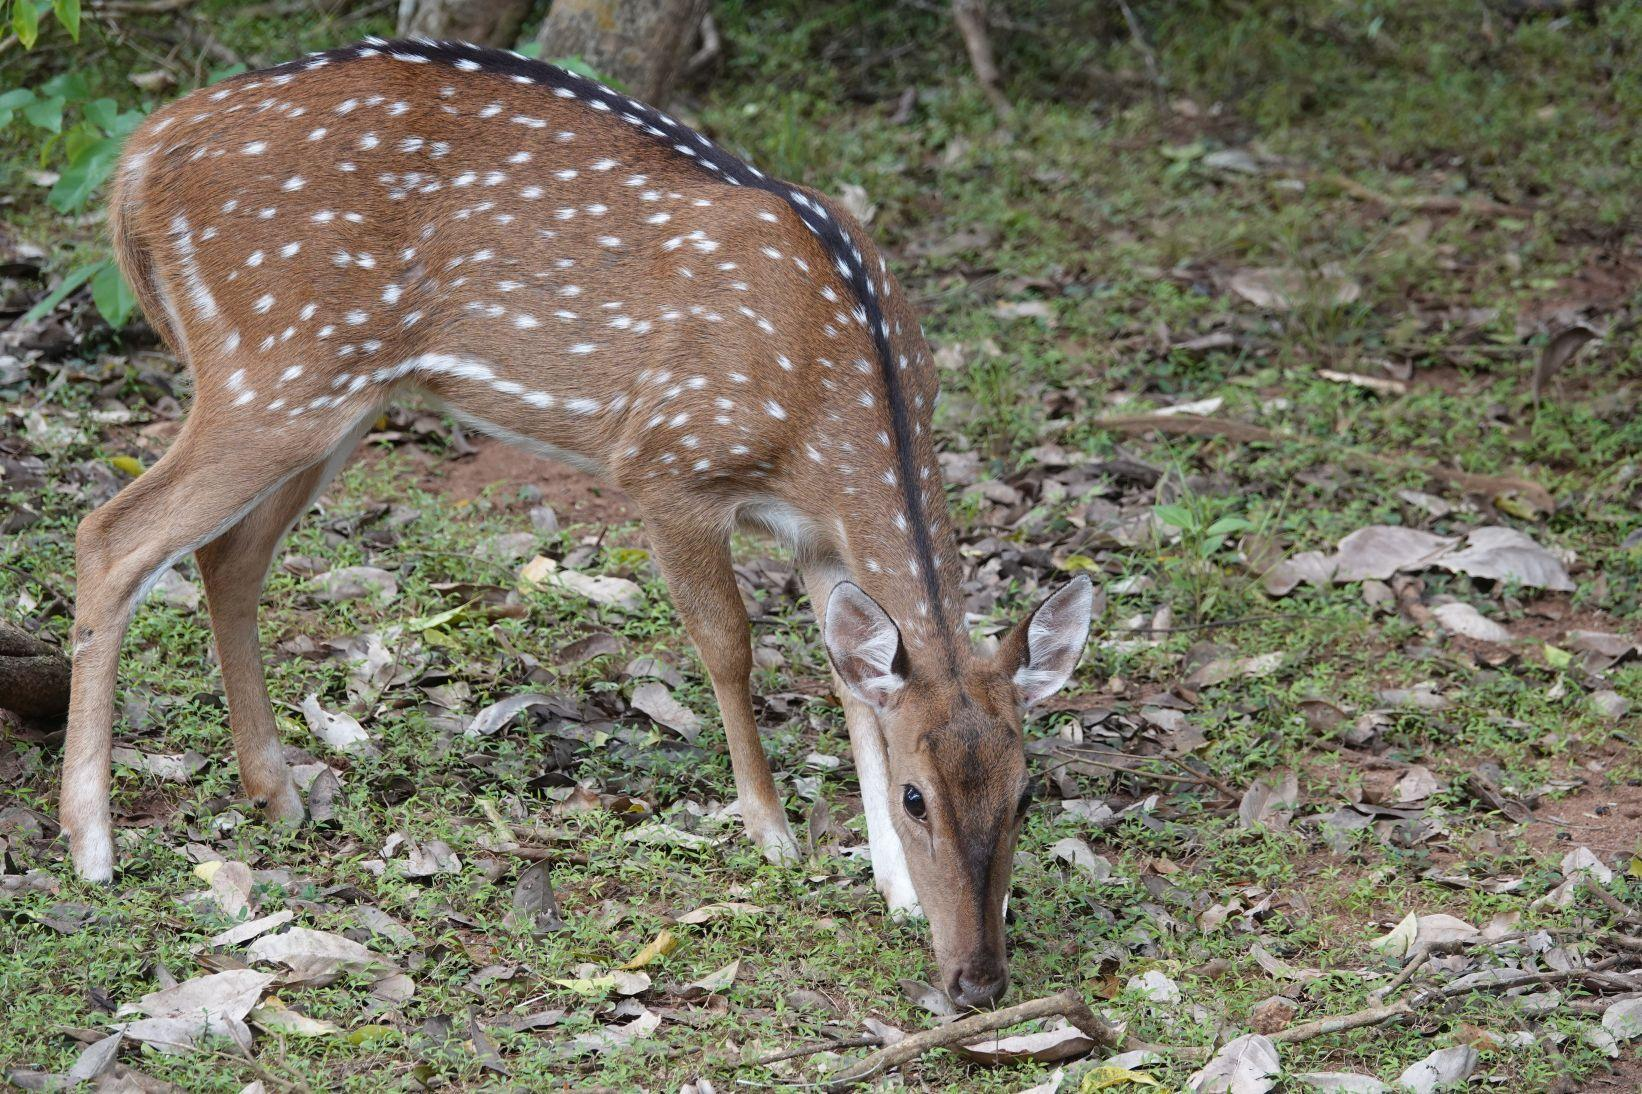Deer: (62, 40, 1091, 1007)
